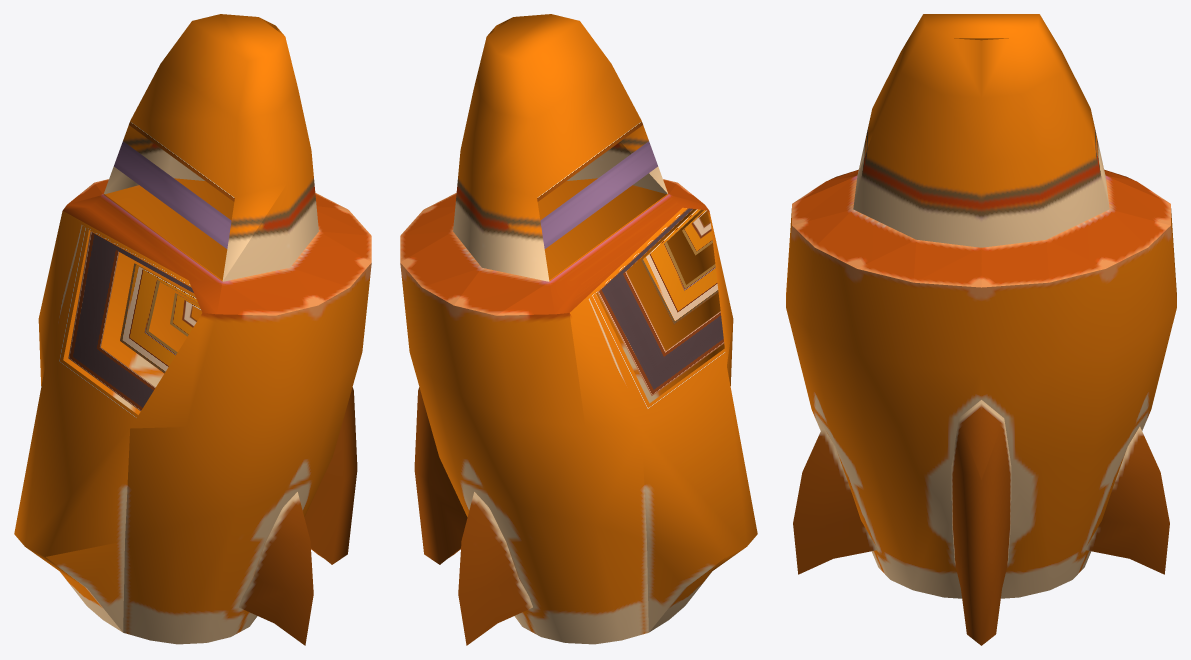
The model's file is JetEngine.fbx.
3 views of the same model, side by side, from view 1: azimuth 30°, elevation 25°; view 2: azimuth 150°, elevation 25°; view 3: azimuth 270°, elevation 25° (orthographic). The views are drawn at different scales.
Parts seen in each view (by area): view 1: exhaust_00; view 2: exhaust_00; view 3: exhaust_00.
Boxes of the visible parts, box(x1,y1,x2,y2) form: exhaust_00: box(14, 14, 371, 645); exhaust_00: box(400, 14, 757, 645); exhaust_00: box(786, 14, 1176, 645).
Size of the model in its own units: 26.98 by 42.81 by 26.36.
